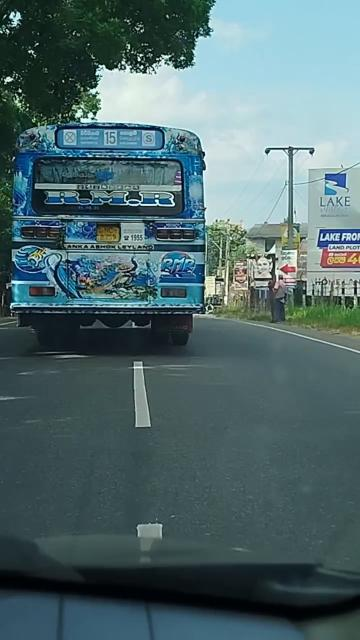number plate: (89, 220, 130, 247)
